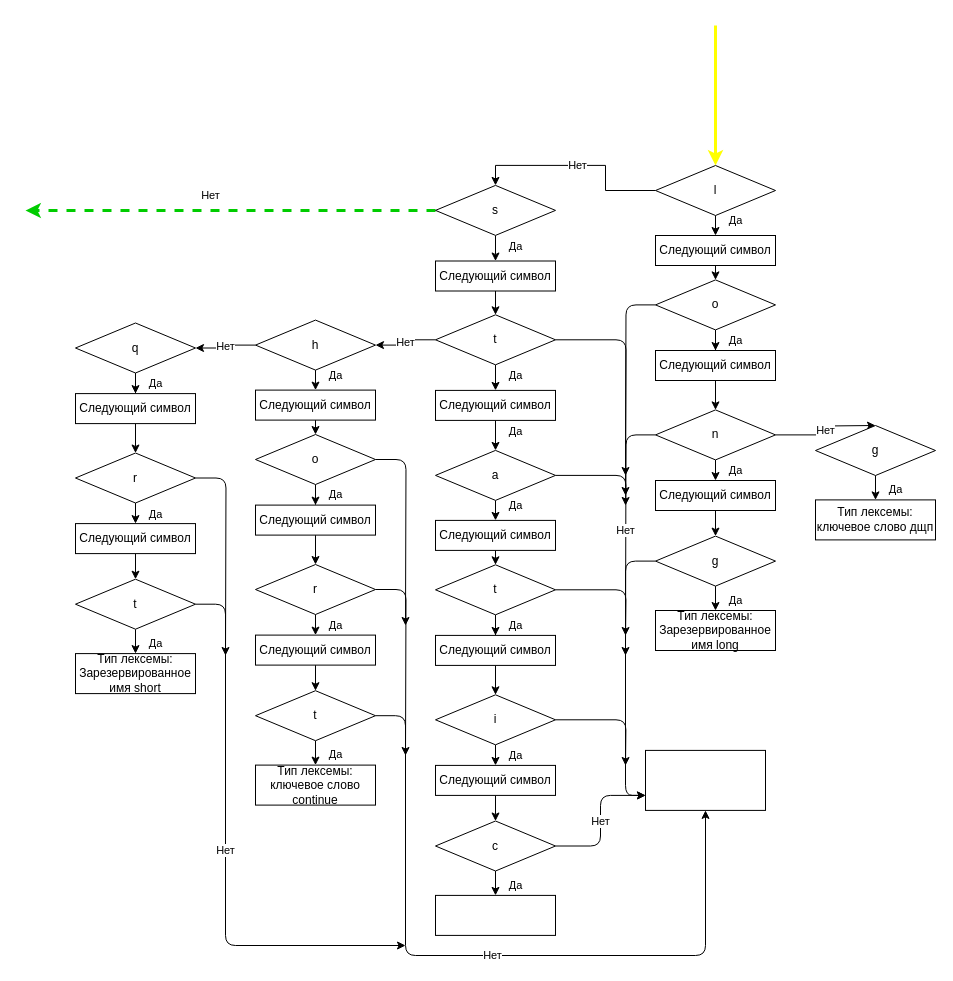
The diagram is 953 pixels wide and 981 high, and some of its shapes have lost their labels. Each missing label, with the centre of its shape:
"Тип лексемы идентификатор" belongs at (705,779).
"Тип лексемы: ключевое слово static" belongs at (495,914).
